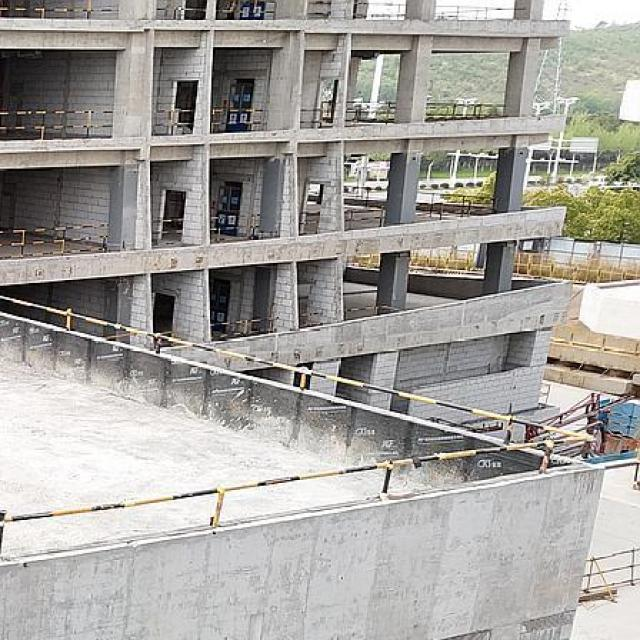edge_guardrail: (0, 294, 593, 559), (0, 224, 110, 259), (0, 109, 116, 140), (156, 0, 280, 20), (0, 0, 120, 20), (209, 106, 268, 134), (210, 316, 274, 340), (210, 216, 261, 241), (151, 108, 196, 136), (434, 5, 524, 19), (424, 102, 507, 117), (342, 290, 381, 320), (418, 191, 493, 206), (300, 100, 334, 130), (344, 208, 389, 229), (368, 2, 406, 21), (296, 210, 321, 237), (346, 100, 396, 111), (346, 110, 389, 120), (298, 294, 309, 317), (152, 218, 184, 223), (152, 229, 184, 234), (106, 333, 136, 338), (160, 329, 189, 334)
